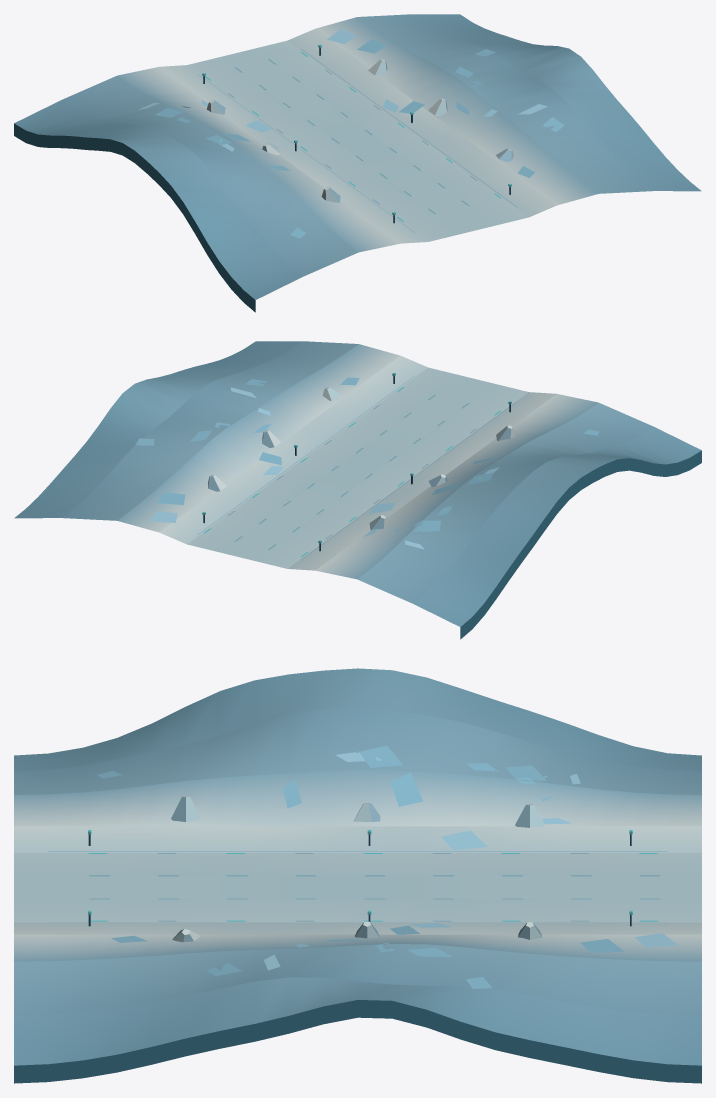
Rendered from 07-forest.glb.
3 views of the same model, one above another, from view 1: azimuth 30°, elevation 25°; view 2: azimuth 150°, elevation 25°; view 3: azimuth 270°, elevation 25° (orthographic). The views are drawn at different scales.
Visible parts, largest first — view 1: forest; view 2: forest; view 3: forest.
Part boxes in pixels (x1,y1,x2,y2): forest: [14, 14, 701, 312]; forest: [14, 341, 701, 639]; forest: [14, 668, 701, 1083].
Bounding box in the file's own units: 32 × 5.05 × 30.
